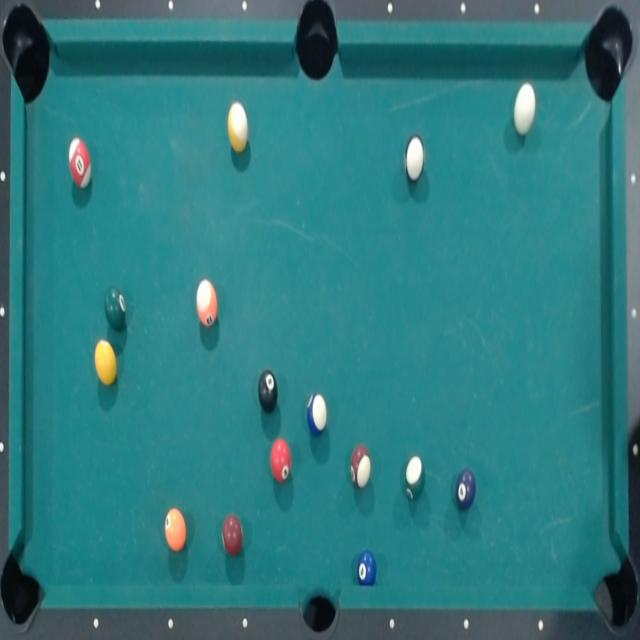black_8ball: (258, 369, 280, 414)
blue_solid: (357, 548, 378, 588)
blue_stripe: (306, 391, 328, 437)
cue_ball: (513, 82, 536, 138)
green_solid: (102, 286, 130, 331)
green_stripe: (404, 455, 426, 501)
maroon_solid: (222, 513, 244, 558)
maroon_stripe: (350, 444, 372, 489)
orange_solid: (165, 506, 188, 554)
orange_stripe: (195, 276, 219, 330)
playr: (455, 468, 476, 510)
purple_solid: (403, 132, 428, 186)
purple_stripe: (270, 438, 292, 482)
red_solid: (67, 136, 96, 190)
red_stripe: (93, 337, 120, 388)
yellow_solid: (227, 101, 250, 155)
